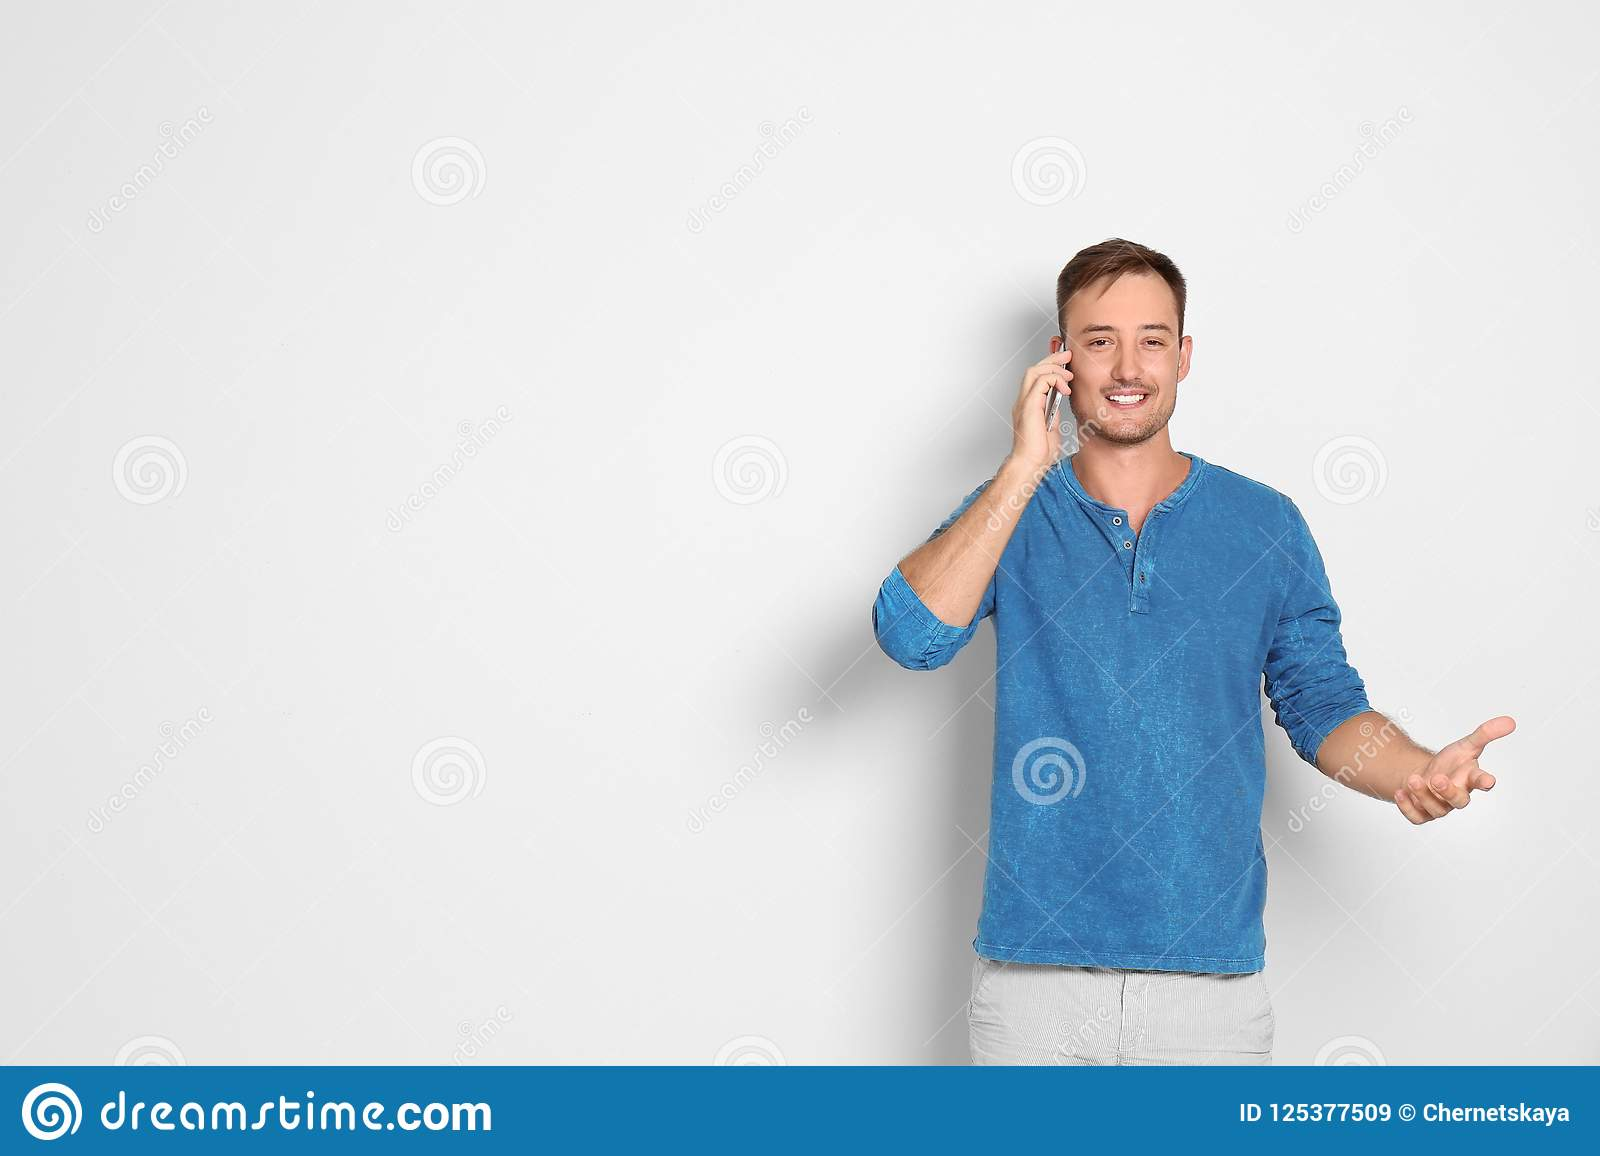phone: (1040, 336, 1076, 426)
talk: (1010, 310, 1179, 509)
